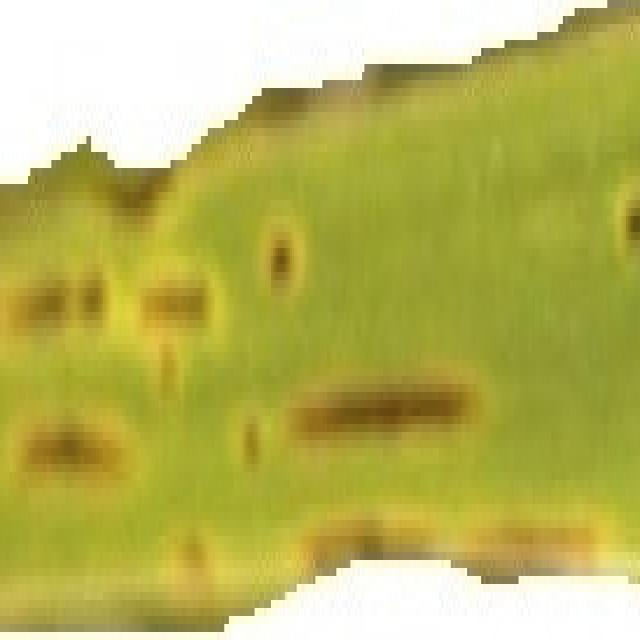brown spot: (295, 499, 625, 585), (288, 343, 489, 463), (6, 393, 156, 493), (128, 242, 232, 344), (3, 252, 82, 365), (144, 499, 236, 589), (216, 381, 278, 501), (73, 233, 117, 348), (259, 212, 308, 312), (607, 144, 640, 256), (0, 216, 16, 368)
